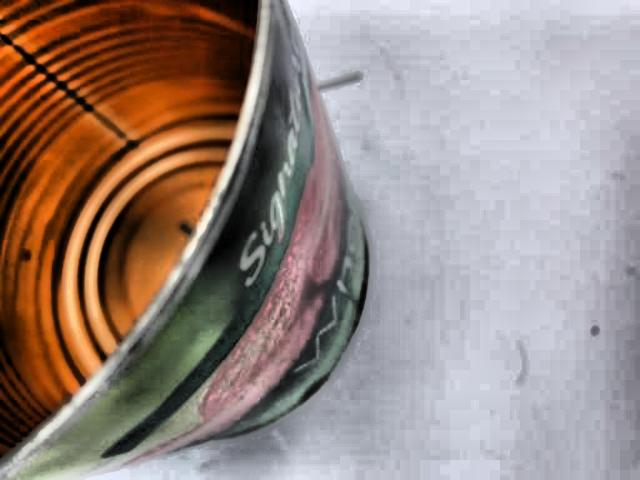Almennt: (0, 0, 382, 480)
